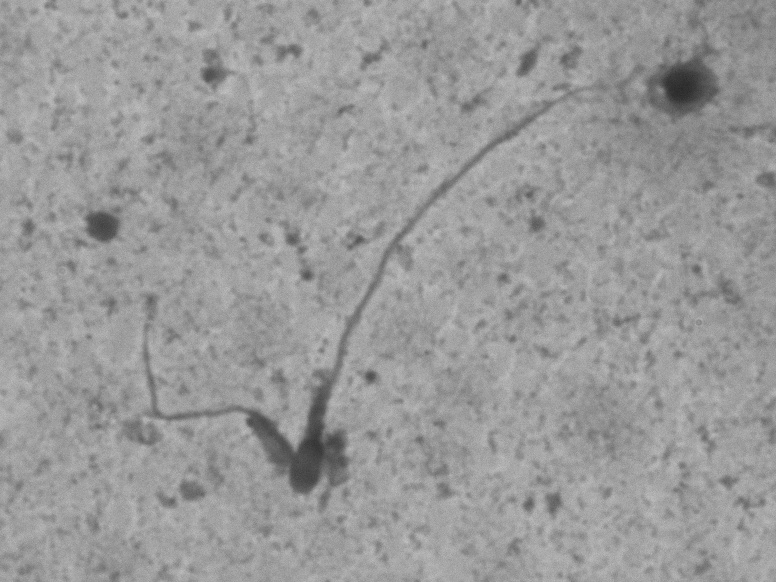Abnormal: (281, 66, 629, 507)
